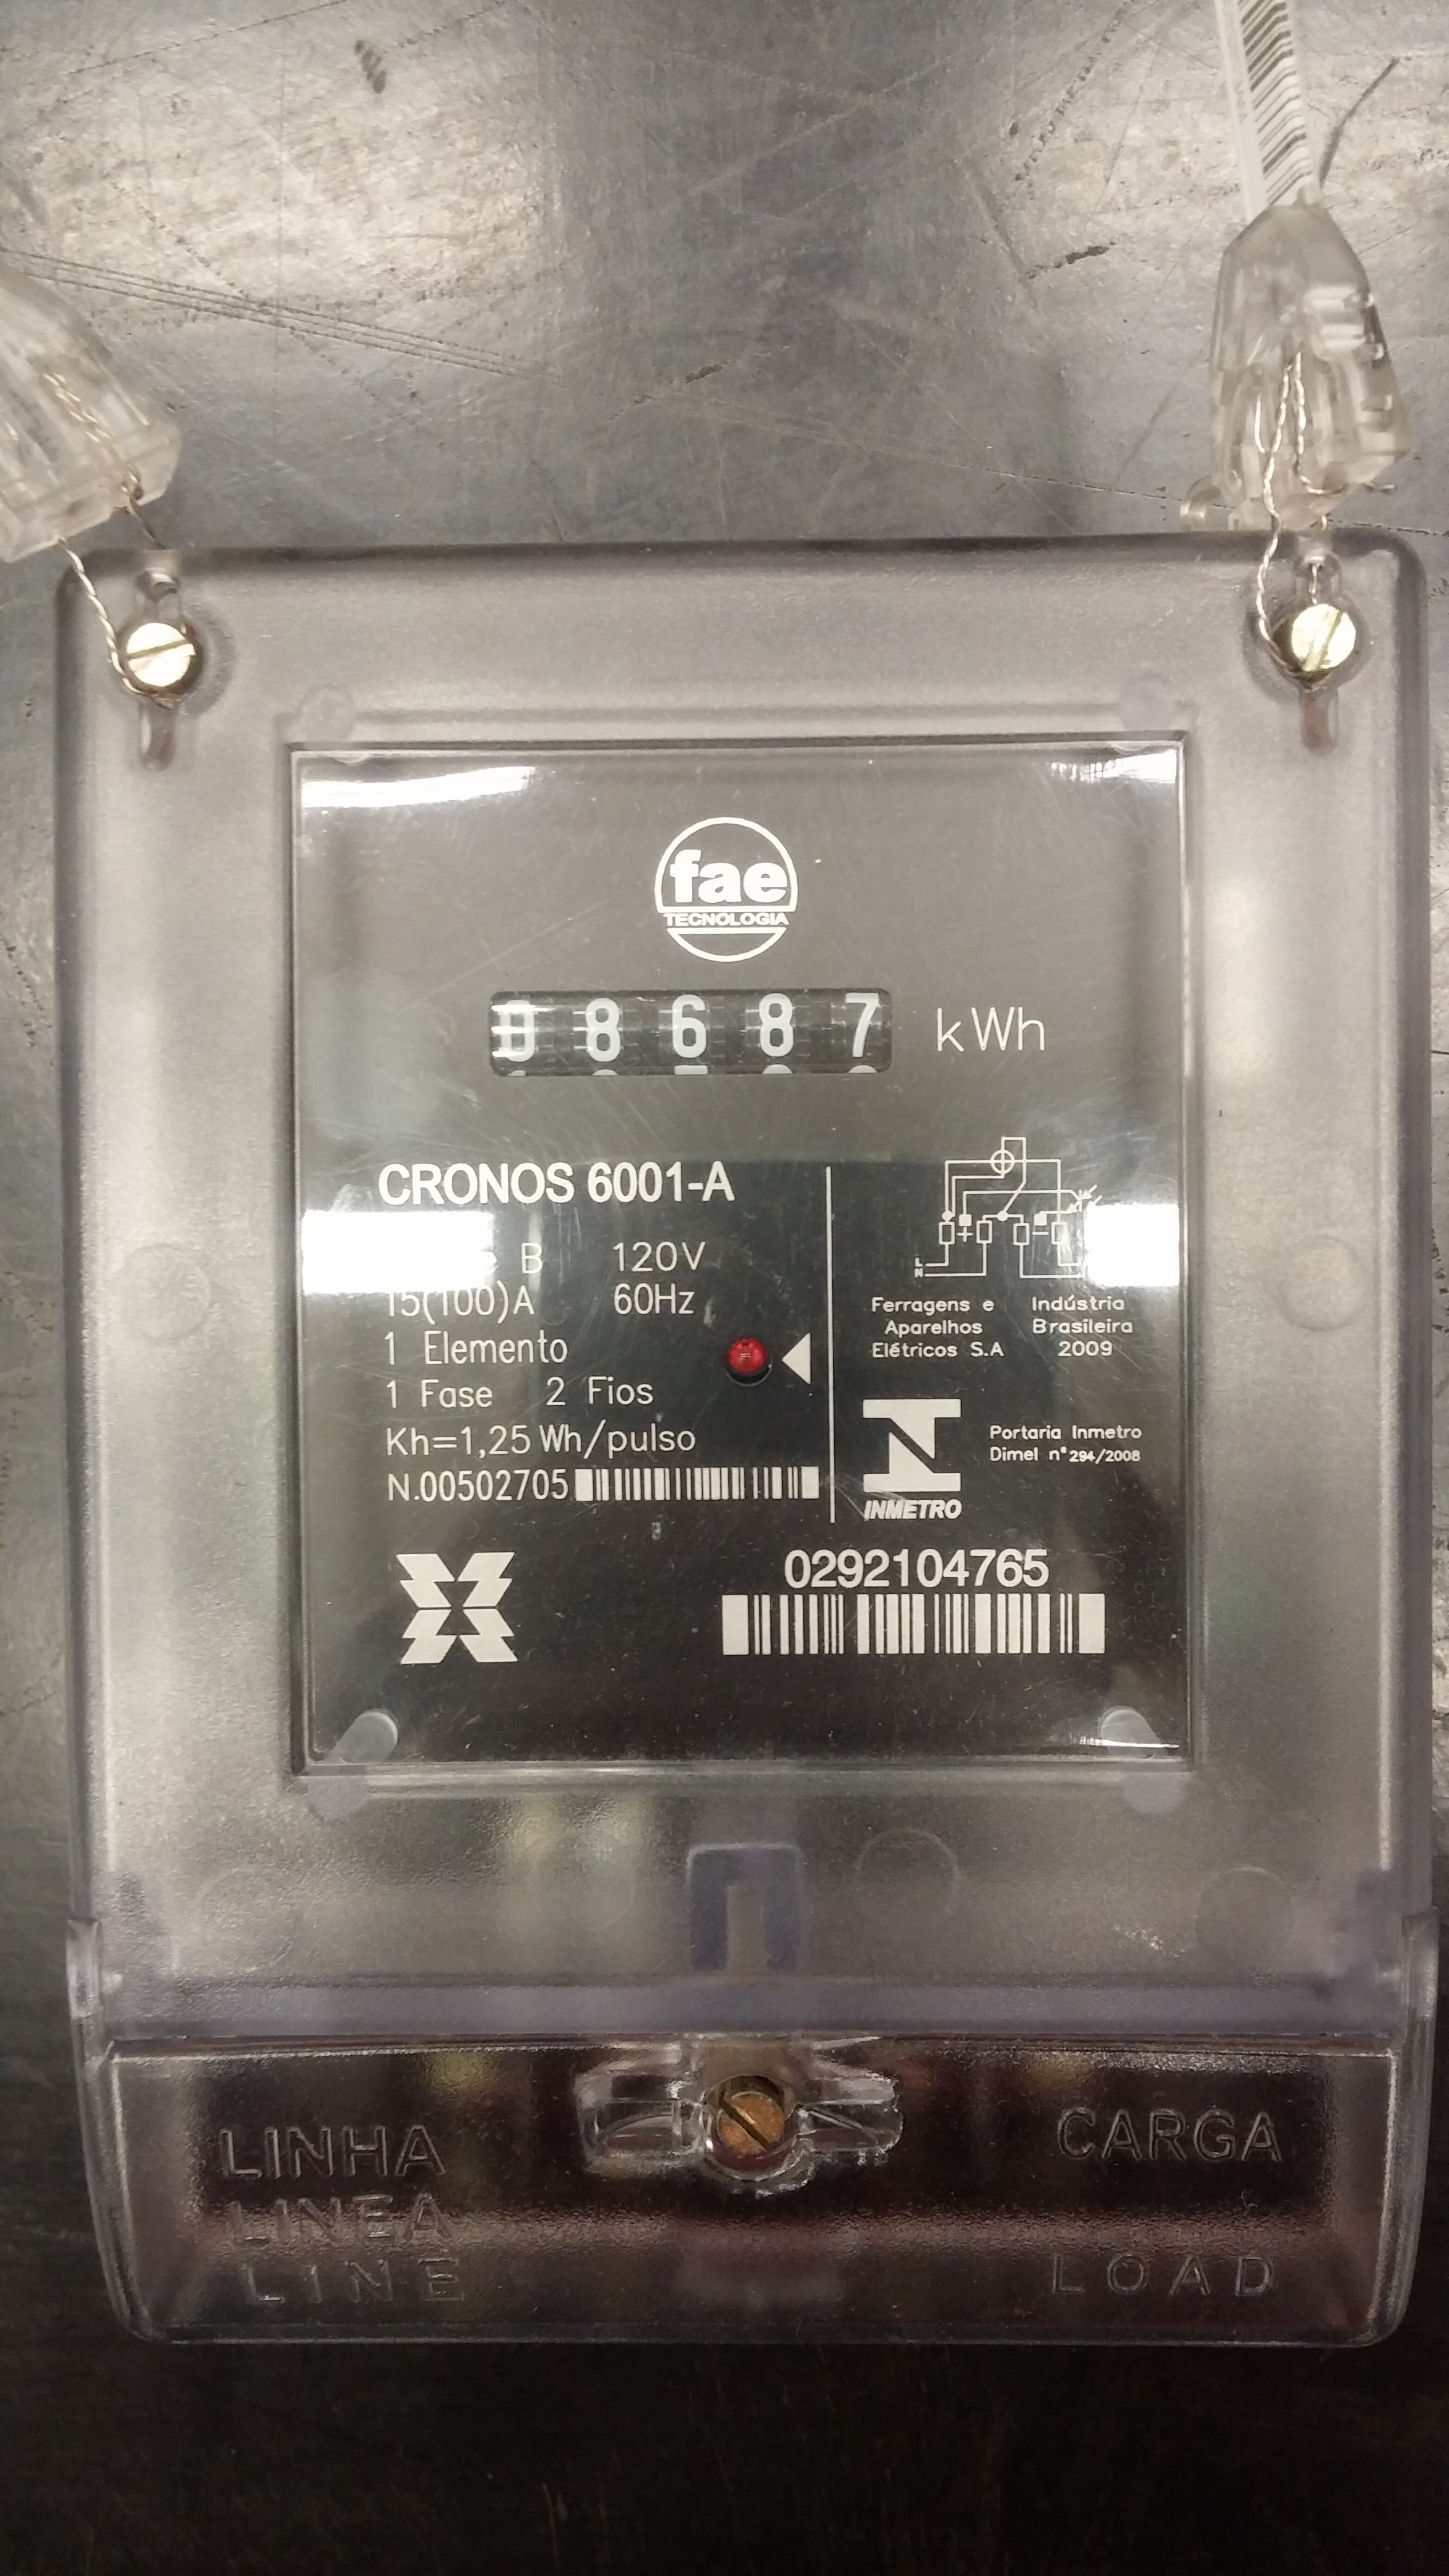counter1: (483, 982, 901, 1076)
